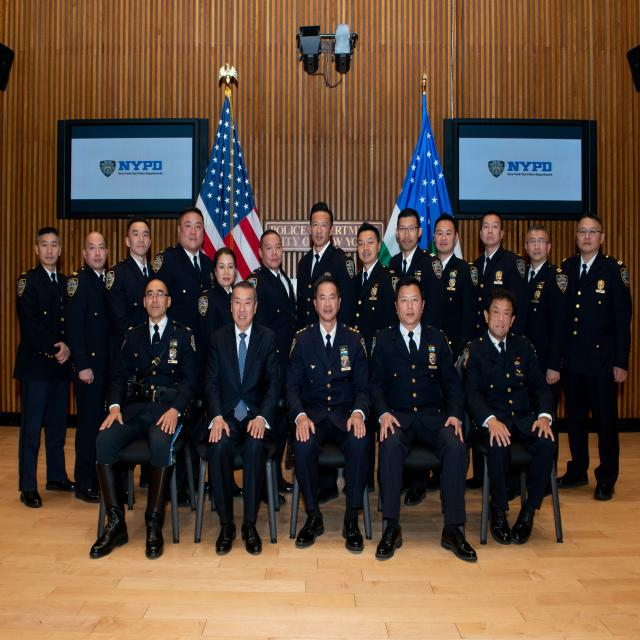police: (256, 198, 627, 349), (70, 199, 214, 471), (91, 269, 200, 547), (368, 264, 461, 552), (468, 280, 566, 533), (0, 200, 73, 498), (293, 275, 374, 538), (573, 208, 625, 508), (520, 210, 567, 393)
